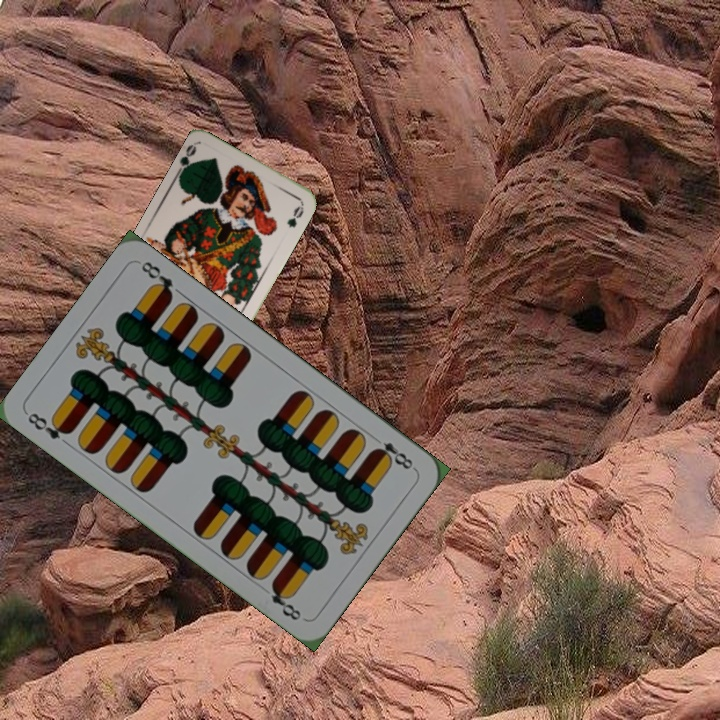E8: (23, 408, 75, 443), (369, 437, 418, 473)
GO: (172, 140, 200, 179)
